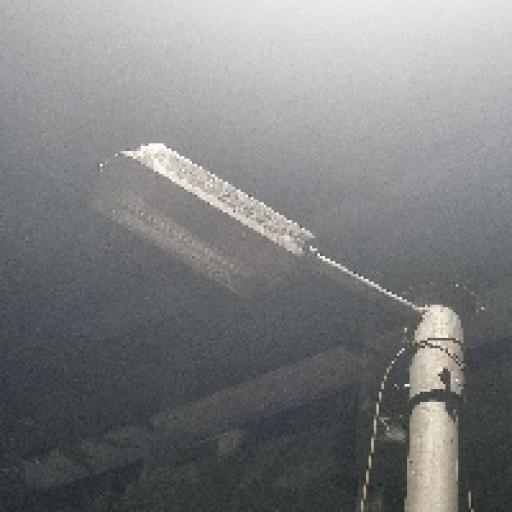Not Working: (67, 130, 328, 326)
